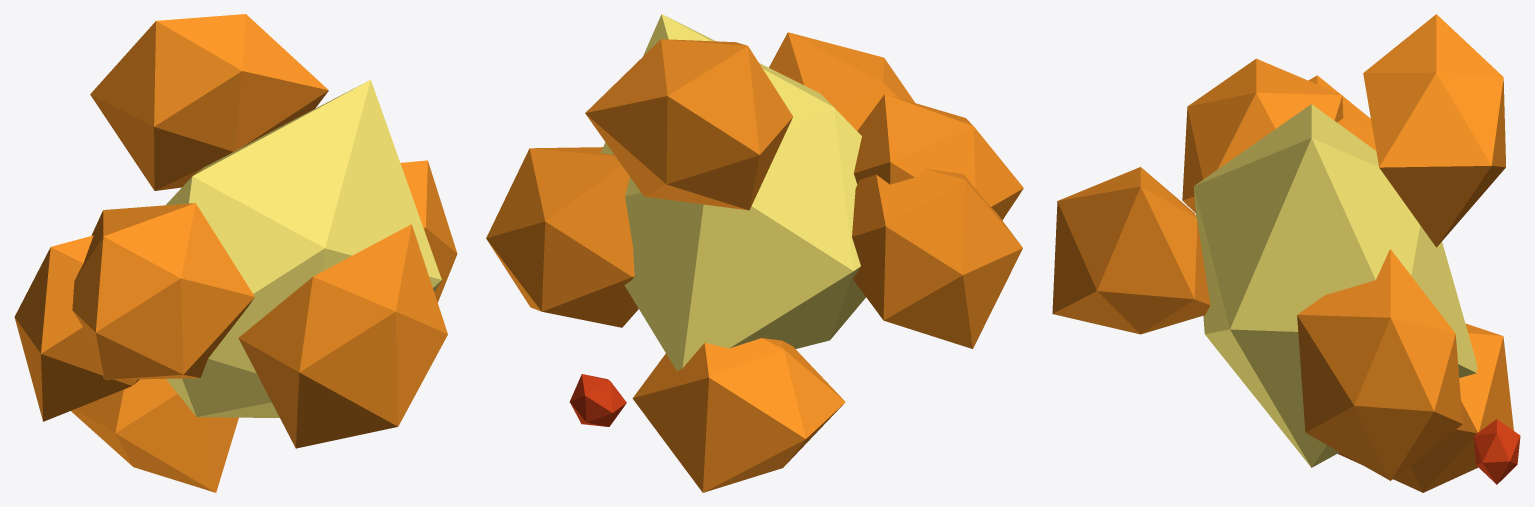
The model's file is frame_4.glb.
3 renders of one model, left to right at view 1: azimuth 30°, elevation 25°; view 2: azimuth 150°, elevation 25°; view 3: azimuth 270°, elevation 25°, orthographic. The views are drawn at different scales.
Visible parts, largest first — view 1: effect_explosion_small_frame_4; view 2: effect_explosion_small_frame_4; view 3: effect_explosion_small_frame_4.
Part boxes in pixels (x1,y1,x2,y2): effect_explosion_small_frame_4: [14, 14, 457, 492]; effect_explosion_small_frame_4: [486, 14, 1023, 492]; effect_explosion_small_frame_4: [1052, 14, 1520, 492].
Bounding box in the file's own units: 7.35 × 6.76 × 6.34.
